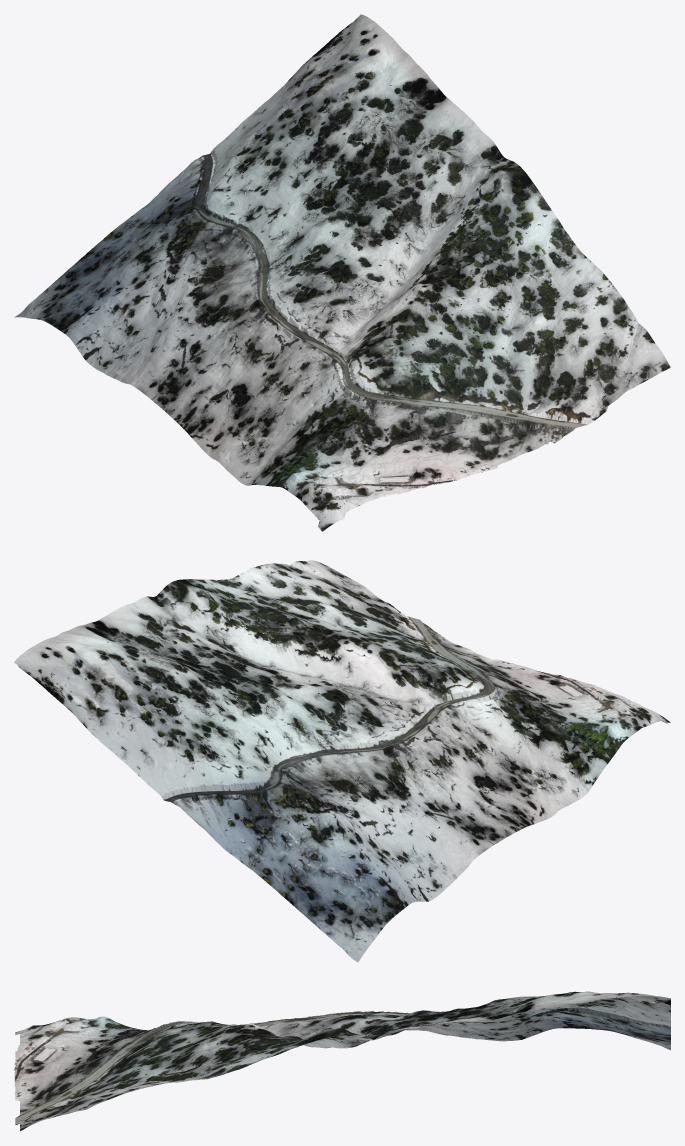
The model's file is terrain_raster.dae.
3 renders of one model, top to bottom at view 1: azimuth 30°, elevation 25°; view 2: azimuth 150°, elevation 25°; view 3: azimuth 270°, elevation 25°, orthographic. The views are drawn at different scales.
Visible parts, largest first — view 1: 100cm_terrain.006; view 2: 100cm_terrain.006; view 3: 100cm_terrain.006.
Boxes of the visible parts, left/top/right/bottom form: 100cm_terrain.006: left=14, top=14, right=670, bottom=531; 100cm_terrain.006: left=14, top=560, right=670, bottom=962; 100cm_terrain.006: left=14, top=991, right=670, bottom=1131.
Bounding box in the file's own units: 9.5 × 14.66 × 5.72.
Materials: 1 (1 with a texture image).
